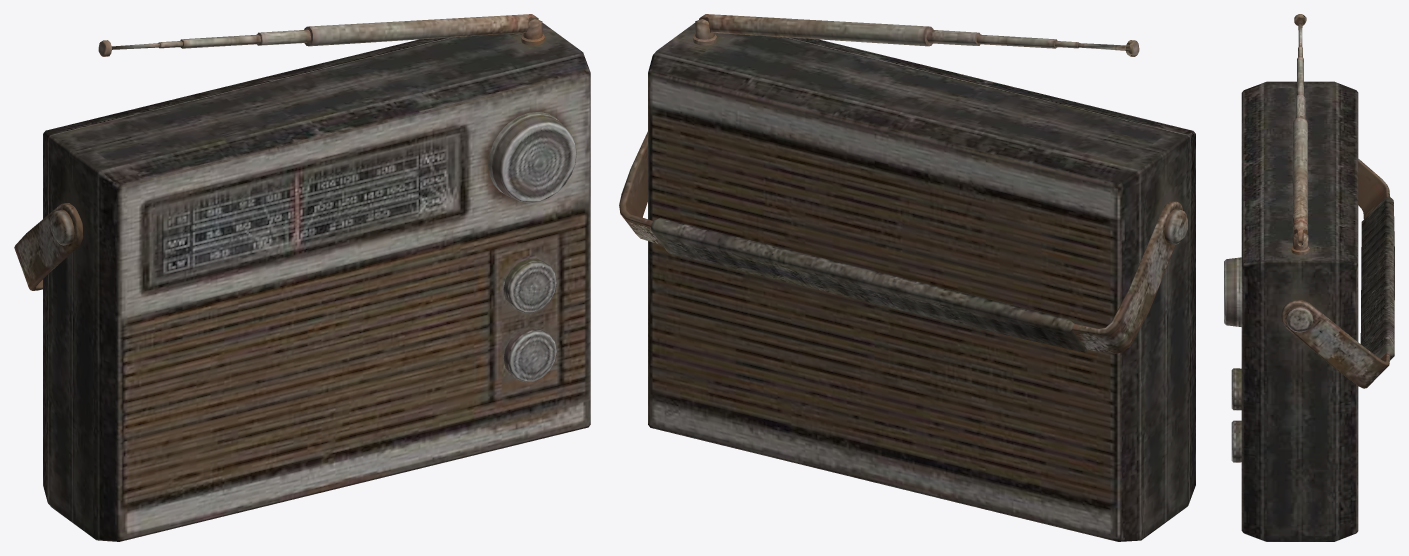
Rendered from old_radio_b.glb.
The picture shows the model from 3 angles, left to right: view 1: azimuth 30°, elevation 25°; view 2: azimuth 150°, elevation 25°; view 3: azimuth 270°, elevation 25°; orthographic projection. The views are drawn at different scales.
Parts seen in each view (by area): view 1: old_radio_b; view 2: old_radio_b; view 3: old_radio_b.
Boxes of the visible parts, left/top/right/bottom form: old_radio_b: left=14, top=14, right=590, bottom=541; old_radio_b: left=619, top=14, right=1195, bottom=541; old_radio_b: left=1224, top=14, right=1394, bottom=541.
Bounding box in the file's own units: 0.2353 × 0.2085 × 0.0882.
1 material, 1 textured.
